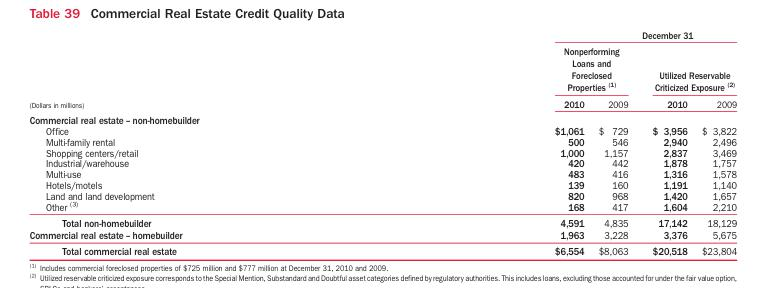table: (28, 28, 736, 257)
table column: (28, 28, 367, 257), (367, 28, 590, 257), (639, 28, 693, 257), (590, 28, 639, 257), (693, 28, 736, 257)
table column header: (28, 28, 736, 111)
table projected row header: (28, 111, 736, 125)
table row: (28, 42, 736, 95), (28, 95, 736, 111), (28, 242, 736, 257), (28, 28, 736, 42), (28, 111, 736, 125), (28, 200, 736, 214), (28, 214, 736, 228), (28, 228, 736, 242), (28, 135, 736, 146), (28, 146, 736, 157), (28, 157, 736, 168), (28, 168, 736, 179), (28, 179, 736, 190), (28, 125, 736, 135), (28, 190, 736, 200)
table spanning cell: (28, 28, 367, 111), (367, 42, 639, 95), (639, 42, 736, 95), (590, 28, 736, 42)
